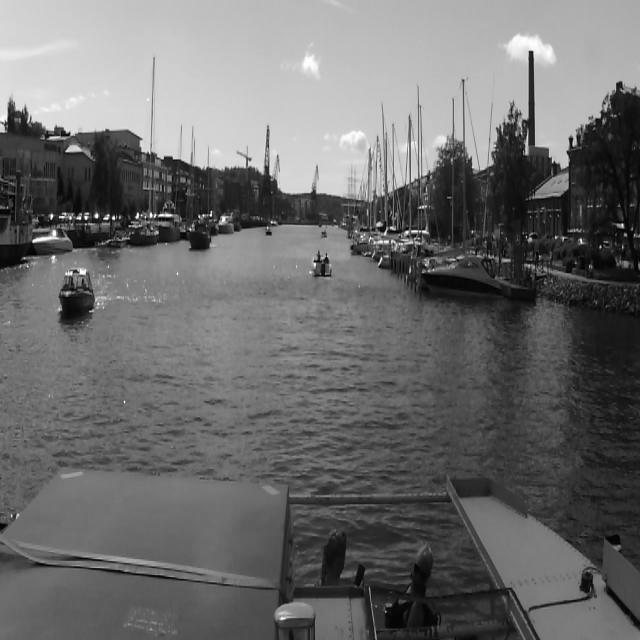ship: (128, 57, 160, 245), (420, 255, 502, 297), (198, 132, 217, 240), (58, 266, 95, 316), (29, 224, 74, 255), (187, 222, 211, 251), (312, 252, 332, 278), (218, 212, 235, 234), (262, 225, 272, 236), (320, 230, 328, 238)
